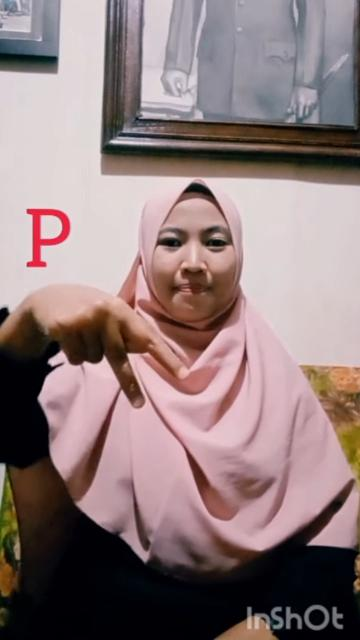P: (31, 278, 202, 414)
